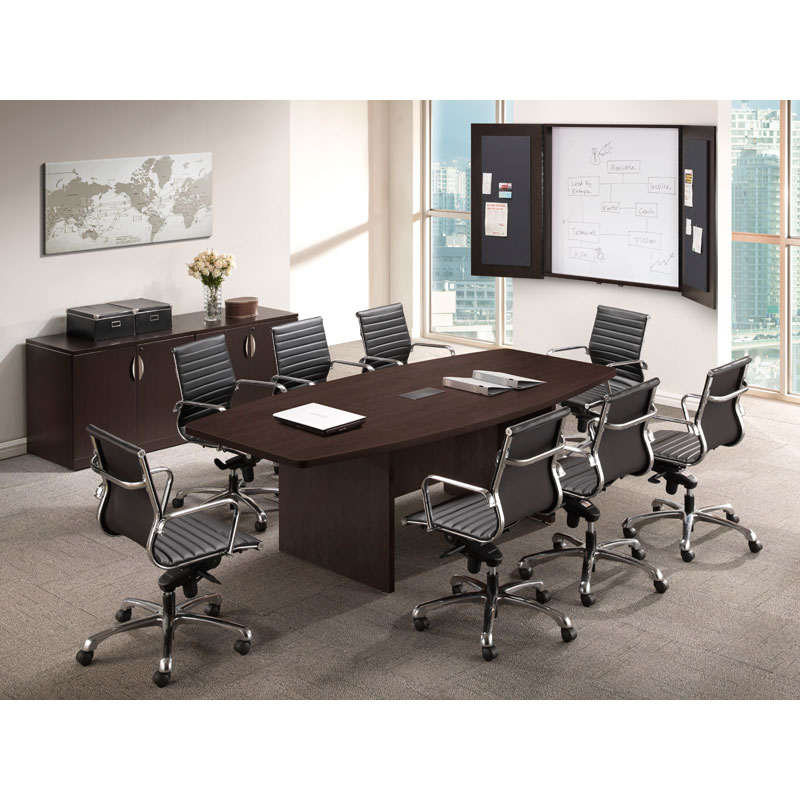conference_table: (185, 348, 621, 593)
